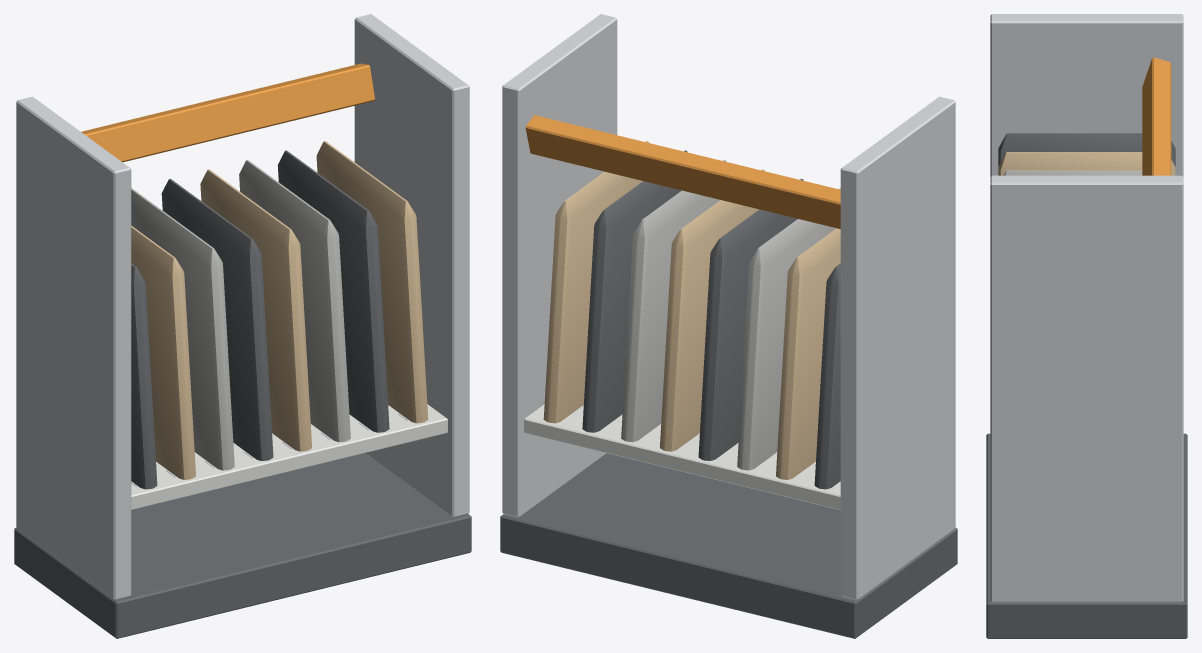
Rendered from worktop-sample-stand.glb.
The picture shows the model from 3 angles, left to right: view 1: azimuth 30°, elevation 25°; view 2: azimuth 150°, elevation 25°; view 3: azimuth 270°, elevation 25°; orthographic projection. The views are drawn at different scales.
Visible parts, largest first — view 1: worktop-sample-stand; view 2: worktop-sample-stand; view 3: worktop-sample-stand.
Part boxes in pixels (left/top/right/bottom): worktop-sample-stand: left=14, top=14, right=471, bottom=638; worktop-sample-stand: left=500, top=14, right=957, bottom=638; worktop-sample-stand: left=986, top=14, right=1187, bottom=638.
Bounding box in the file's own units: 1 × 1.25 × 0.5001.
